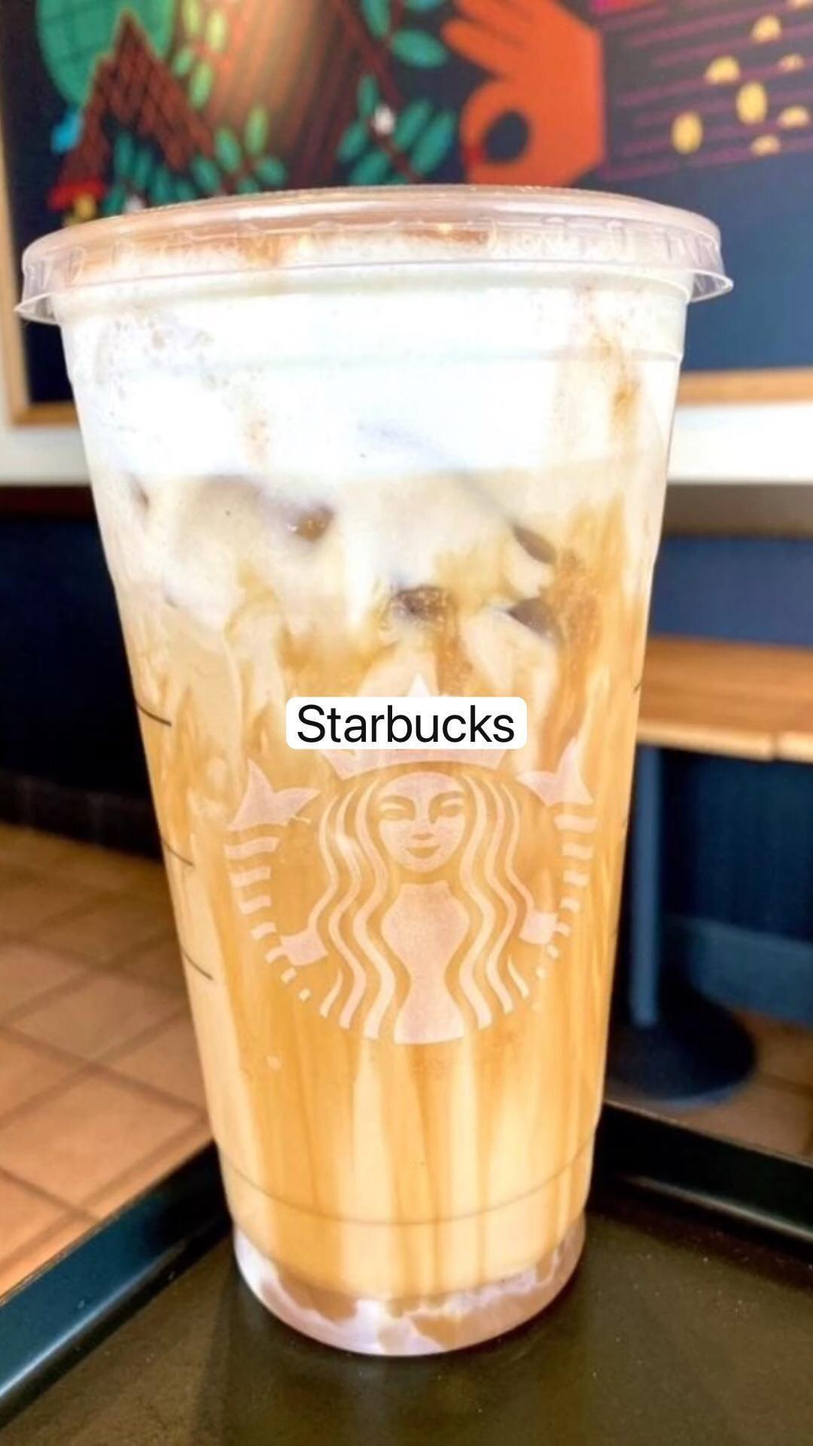cup-disposable: (12, 178, 735, 1369)
